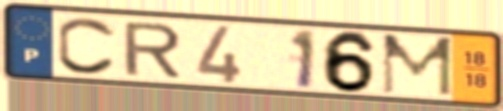1: (287, 28, 319, 92)
4: (194, 23, 245, 85)
6: (319, 29, 382, 95)
C: (54, 14, 119, 77)
M: (378, 32, 455, 99)
R: (120, 21, 184, 79)
